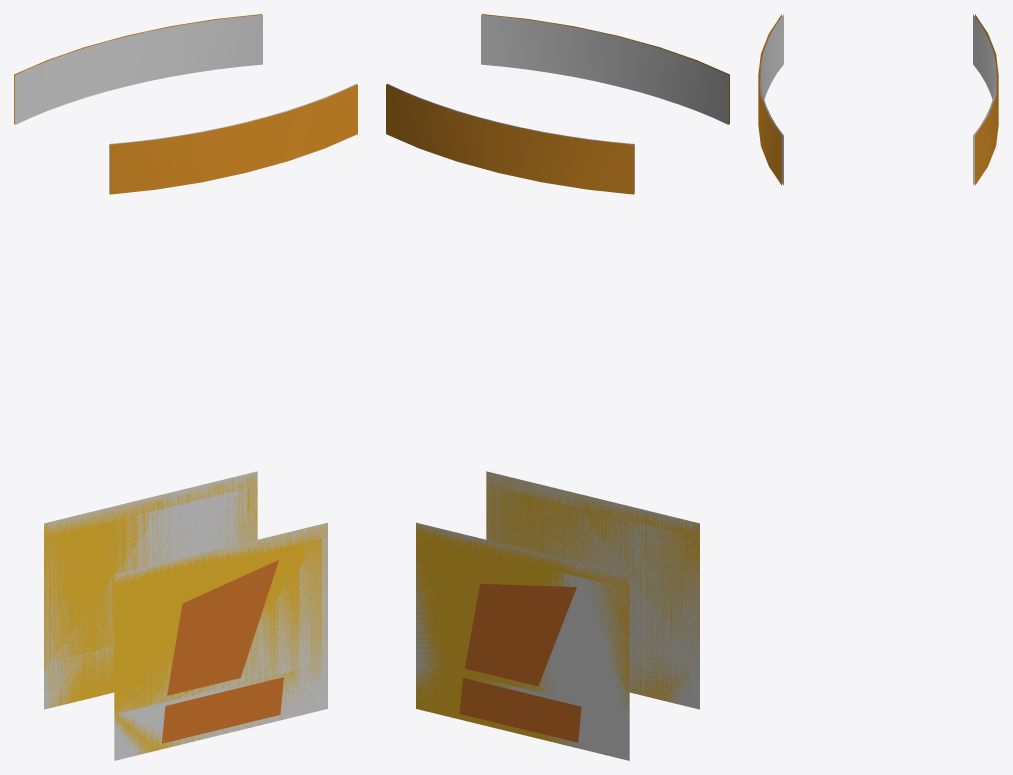
File: s_fuel_pump_2015_trilobite.dae
The picture shows the model from 3 angles, left to right: view 1: azimuth 30°, elevation 25°; view 2: azimuth 150°, elevation 25°; view 3: azimuth 270°, elevation 25°; orthographic projection.
Parts seen in each view (by area): view 1: s_fuel_pump_2015_trilobite_L30, s_fuel_pump_2015_trilobite_L80; view 2: s_fuel_pump_2015_trilobite_L30, s_fuel_pump_2015_trilobite_L80; view 3: s_fuel_pump_2015_trilobite_L30, s_fuel_pump_2015_trilobite_L80.
Boxes of the visible parts, <box> form: s_fuel_pump_2015_trilobite_L30: <box>14,14,357,754</box>; s_fuel_pump_2015_trilobite_L80: <box>15,15,356,760</box>; s_fuel_pump_2015_trilobite_L30: <box>386,14,729,748</box>; s_fuel_pump_2015_trilobite_L80: <box>387,15,728,760</box>; s_fuel_pump_2015_trilobite_L30: <box>758,14,998,185</box>; s_fuel_pump_2015_trilobite_L80: <box>760,14,996,185</box>.
Bounding box in the file's own units: 0.9055 × 0.7556 × 2.2.
